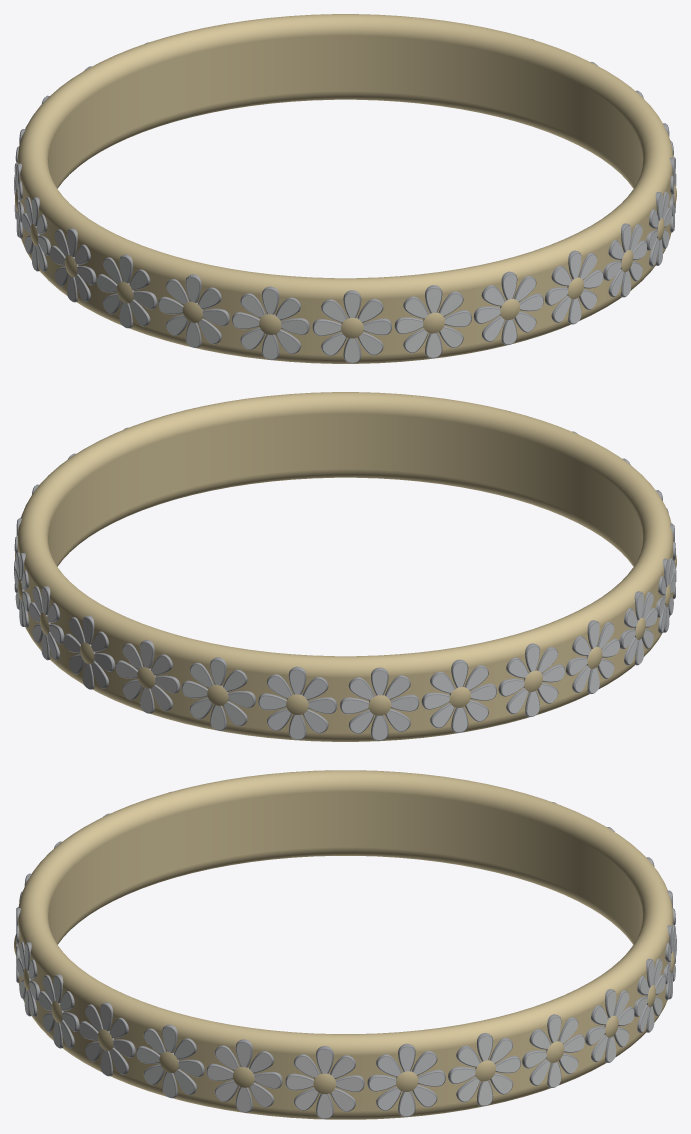
The model's file is flower_ring.glb.
The picture shows the model from 3 angles, top to bottom: view 1: azimuth 30°, elevation 25°; view 2: azimuth 150°, elevation 25°; view 3: azimuth 270°, elevation 25°; orthographic projection.
Visible parts, largest first — view 1: Object_5, Object_2, Object_3, Object_8, Object_4, Object_7; view 2: Object_5, Object_6, Object_7, Object_3, Object_8, Object_2; view 3: Object_5, Object_4, Object_7, Object_2, Object_3, Object_6.
Part boxes in pixels (box(x1,y1,x2,y2)): Object_5: box(17, 14, 672, 363); Object_2: box(50, 39, 534, 363); Object_3: box(14, 129, 671, 358); Object_8: box(21, 197, 309, 359); Object_4: box(545, 90, 673, 324); Object_7: box(14, 95, 676, 238); Object_5: box(14, 392, 673, 741); Object_6: box(63, 615, 337, 739); Object_7: box(29, 586, 565, 740); Object_3: box(421, 431, 675, 732); Object_8: box(566, 490, 668, 693); Object_2: box(14, 458, 676, 665); Object_5: box(14, 770, 673, 1119); Object_4: box(17, 941, 364, 1119); Object_7: box(136, 827, 634, 1098); Object_2: box(54, 791, 520, 1106); Object_3: box(19, 802, 556, 1076); Object_6: box(633, 857, 676, 1033).
Size of the model in its own units: 0.0201 by 0.00278 by 0.0202.
